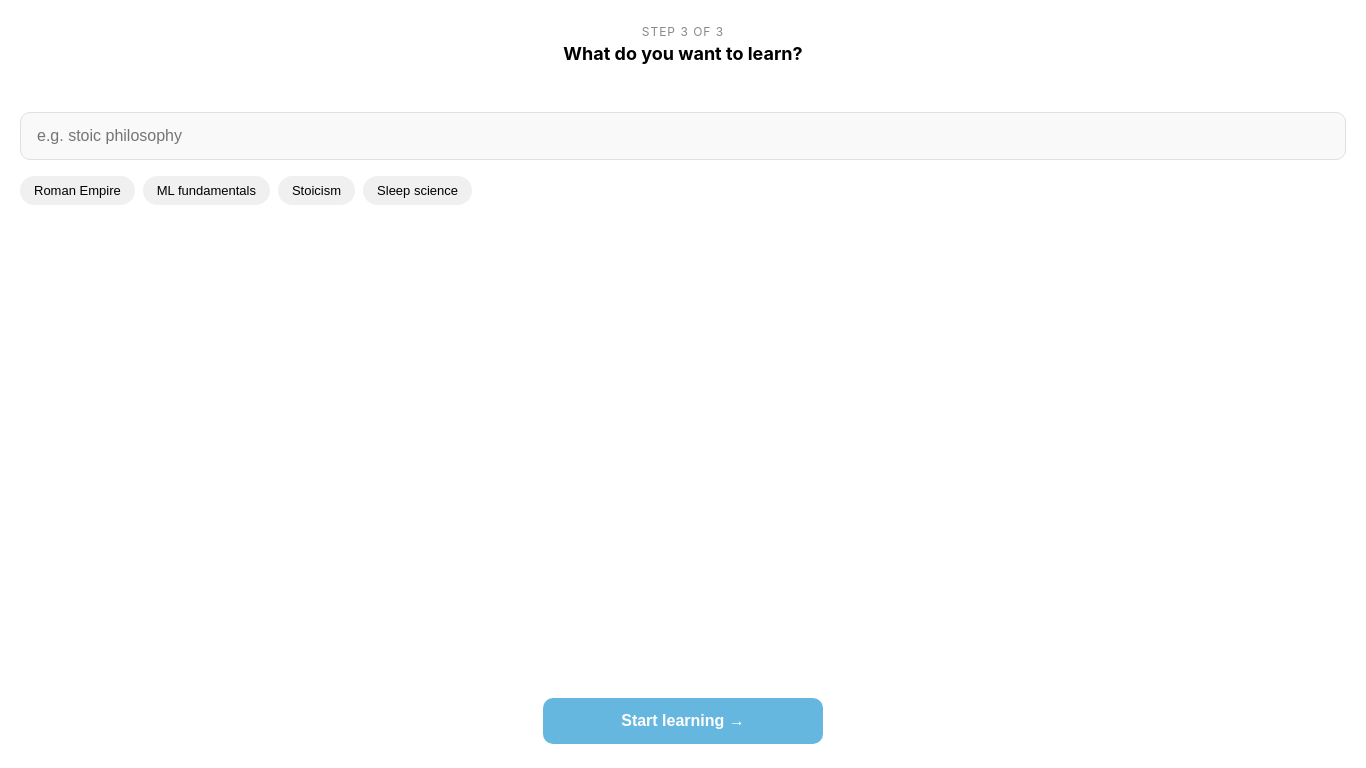
Test case: ScreenTopic › submit button is enabled when input has text
Type "Stoicism" into the field with test id "topic-input" at [683, 136], box [20,112,1346,160]
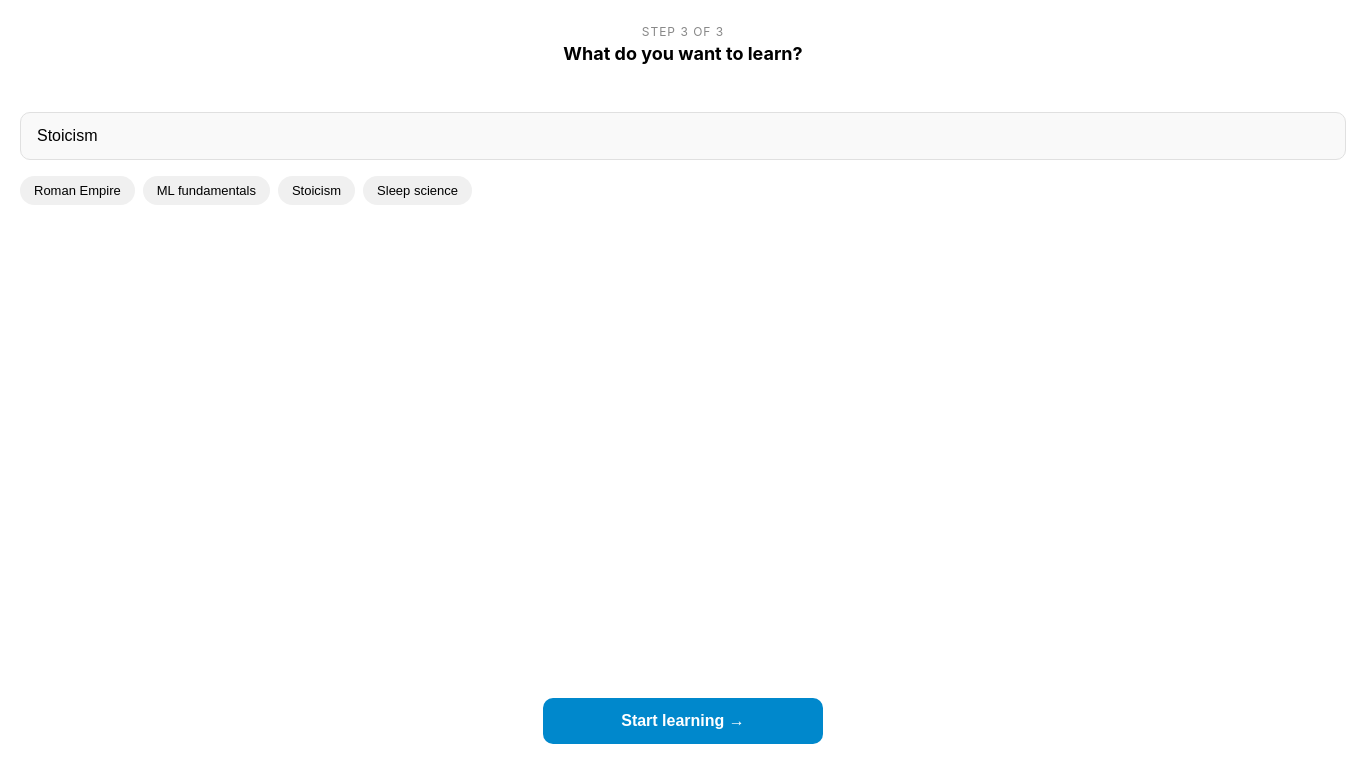
Result: the button with test id "submit-btn" is enabled at [543,698,823,744]
